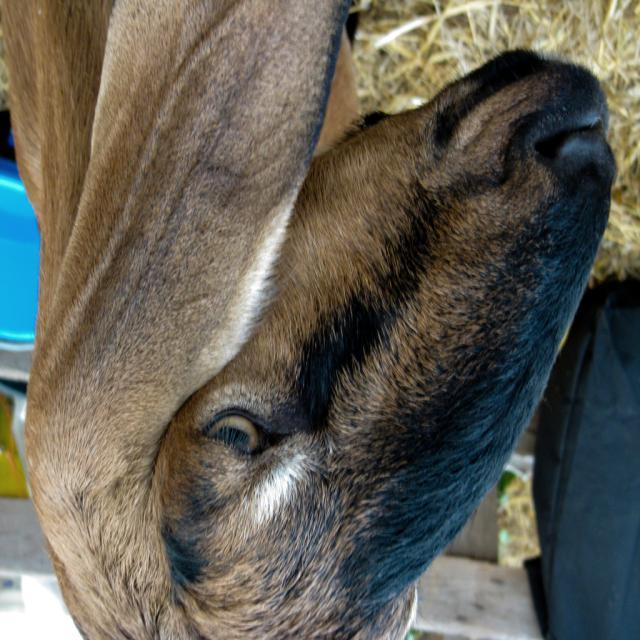Goat: (1, 2, 616, 640)
